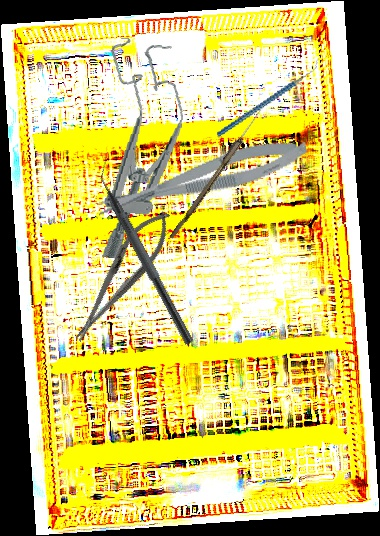Chopper: (86, 154, 207, 347), (204, 57, 333, 138)
Micro Scissor: (91, 130, 312, 224)
Needle Holder: (61, 201, 182, 351)
Speculum: (86, 36, 192, 265)
Surgical Spoon: (169, 102, 267, 242)
